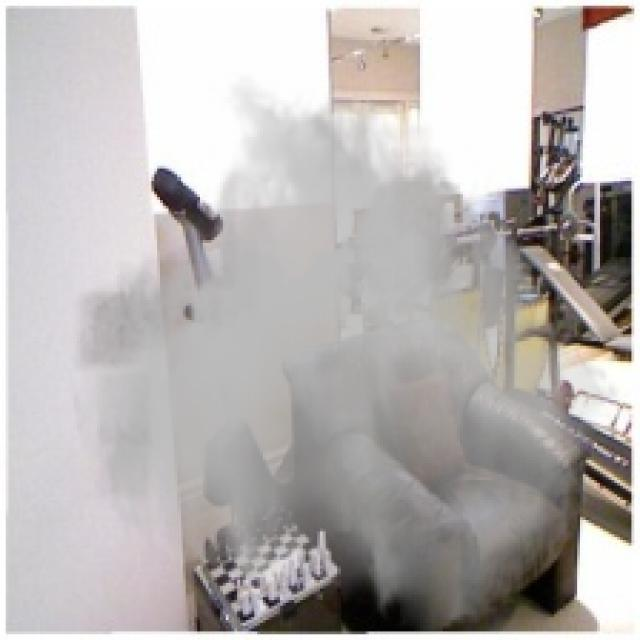Smoke: (65, 72, 620, 638)
